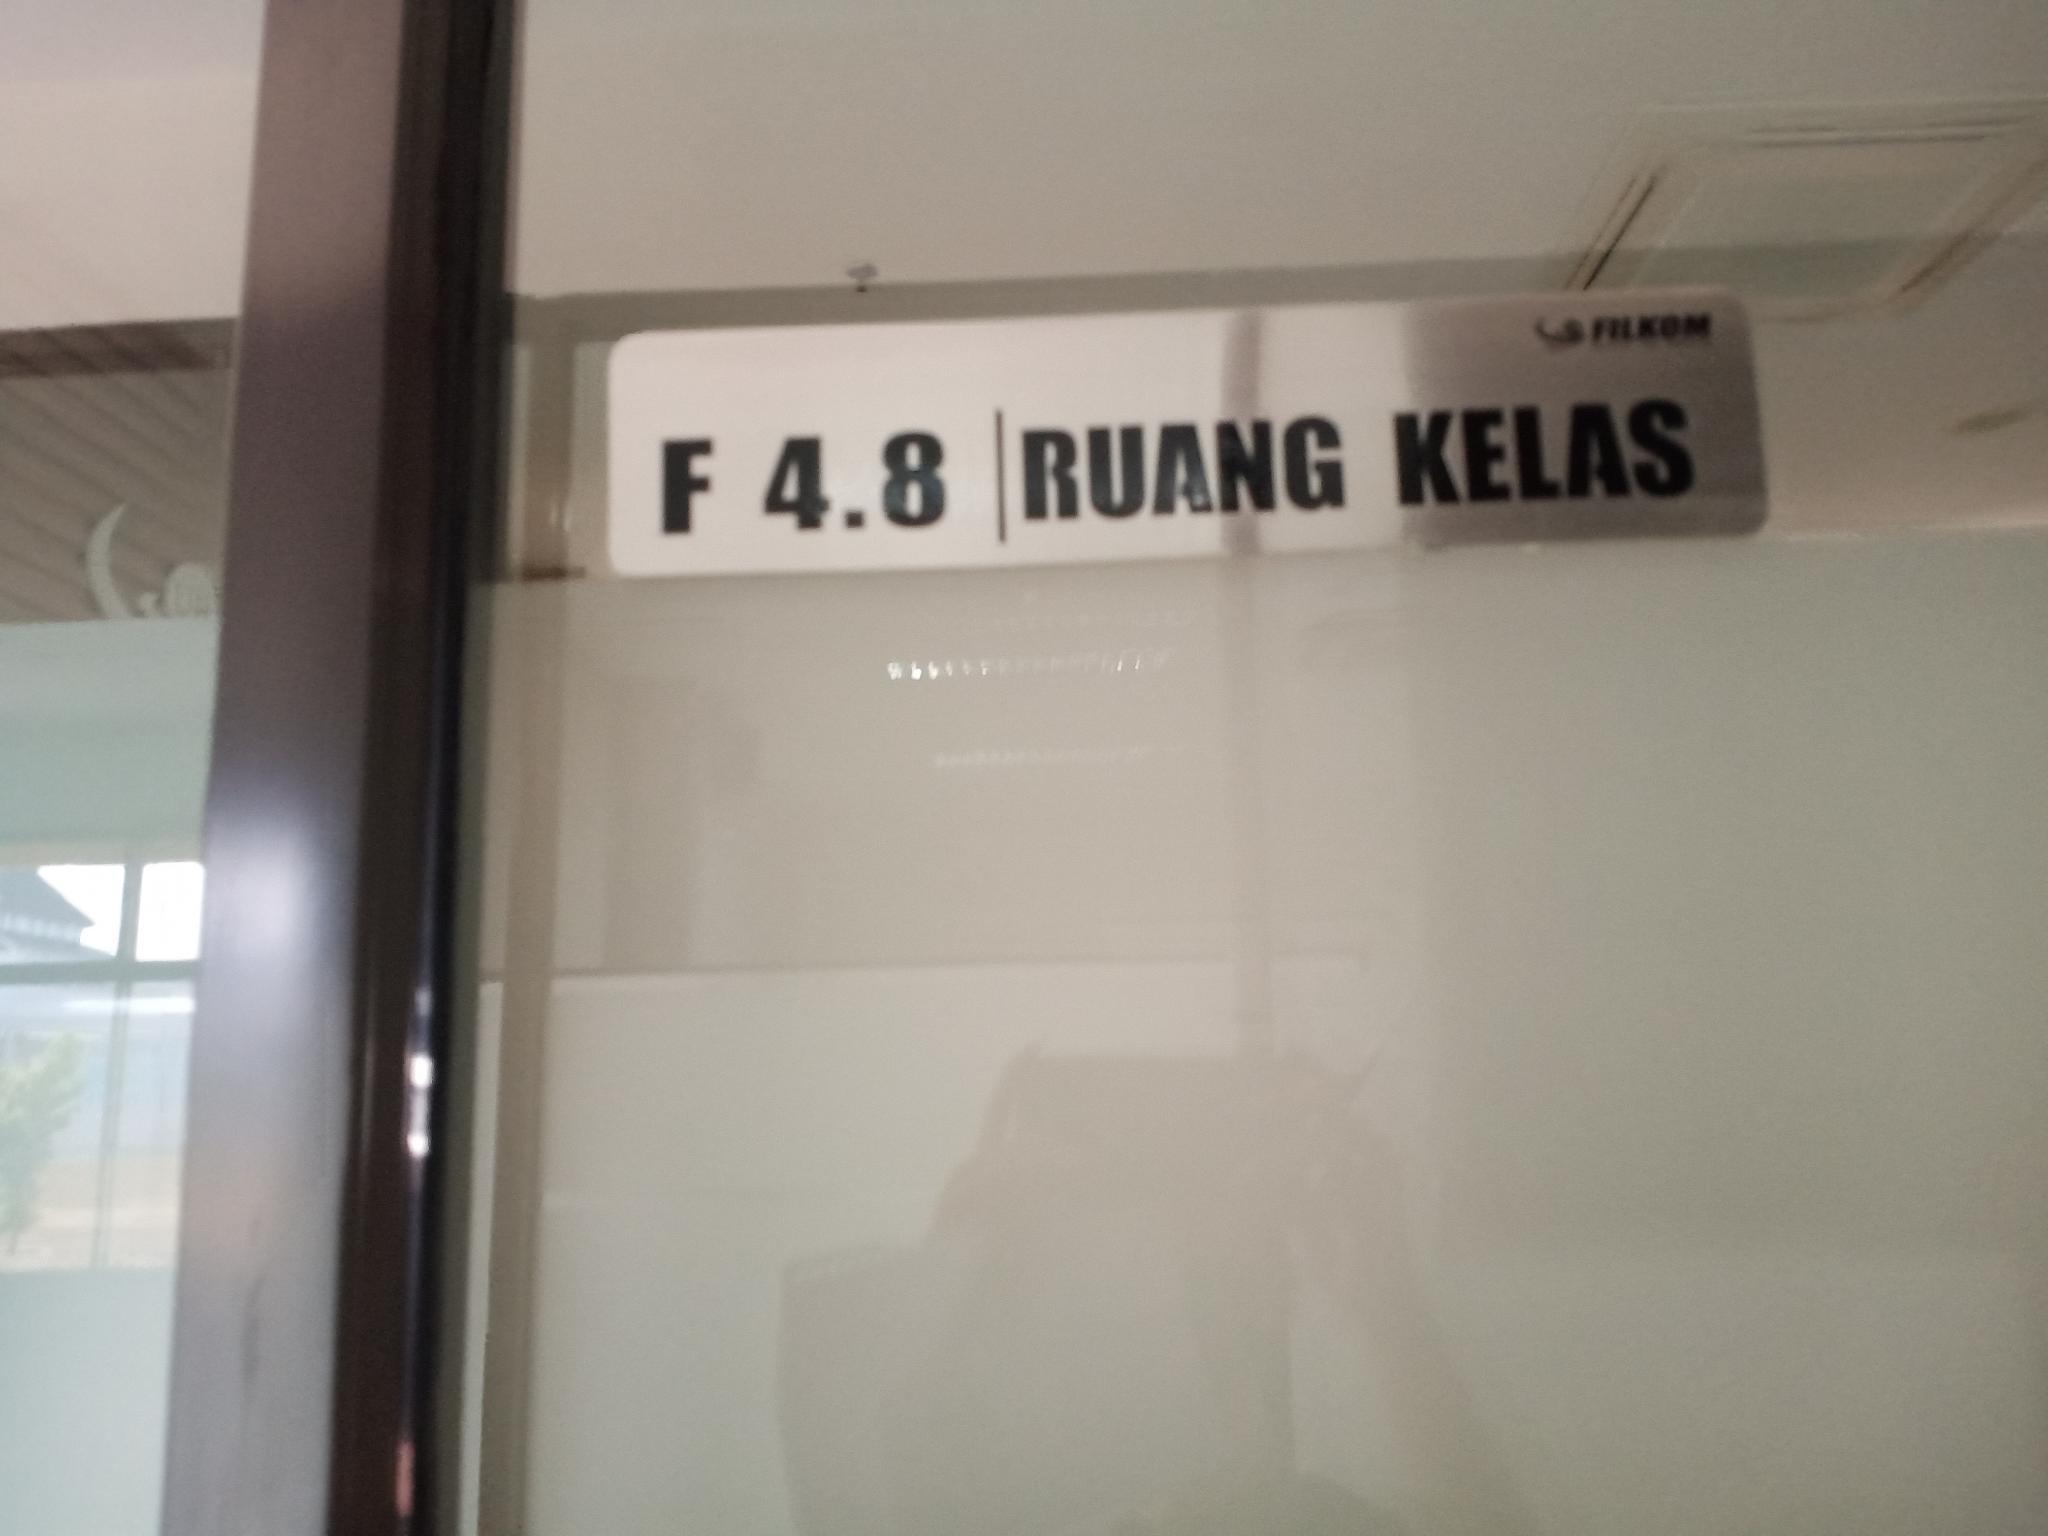plate: (605, 284, 1775, 582)
